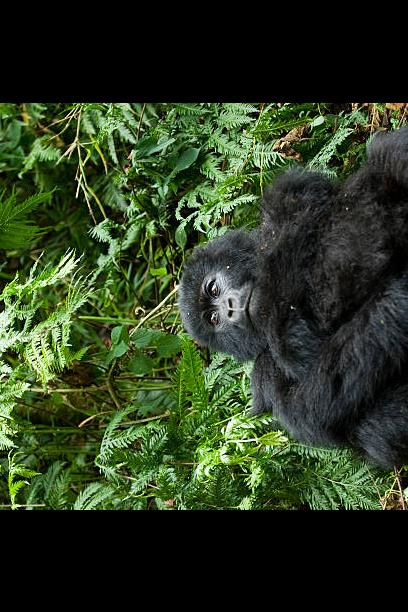goriile_montagne: (122, 102, 408, 466)
